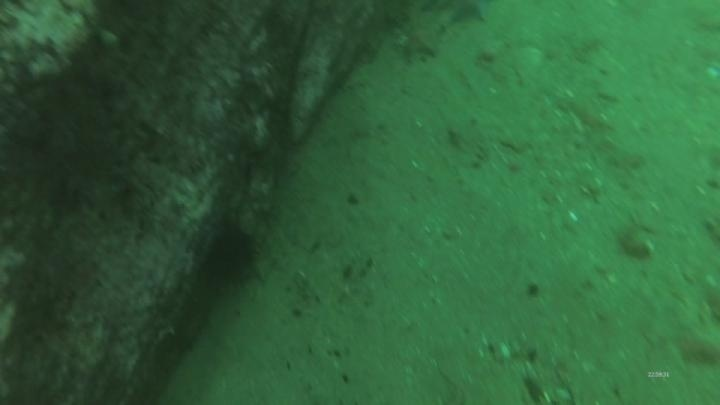echinus: (195, 216, 264, 292)
